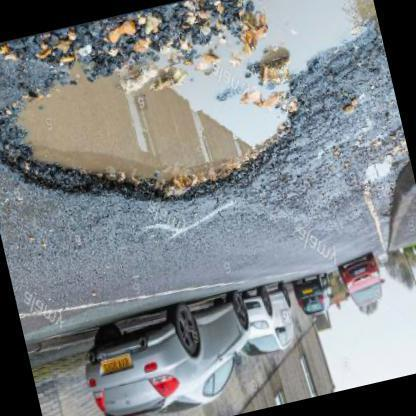pothole: (0, 0, 389, 203), (363, 122, 413, 190)
